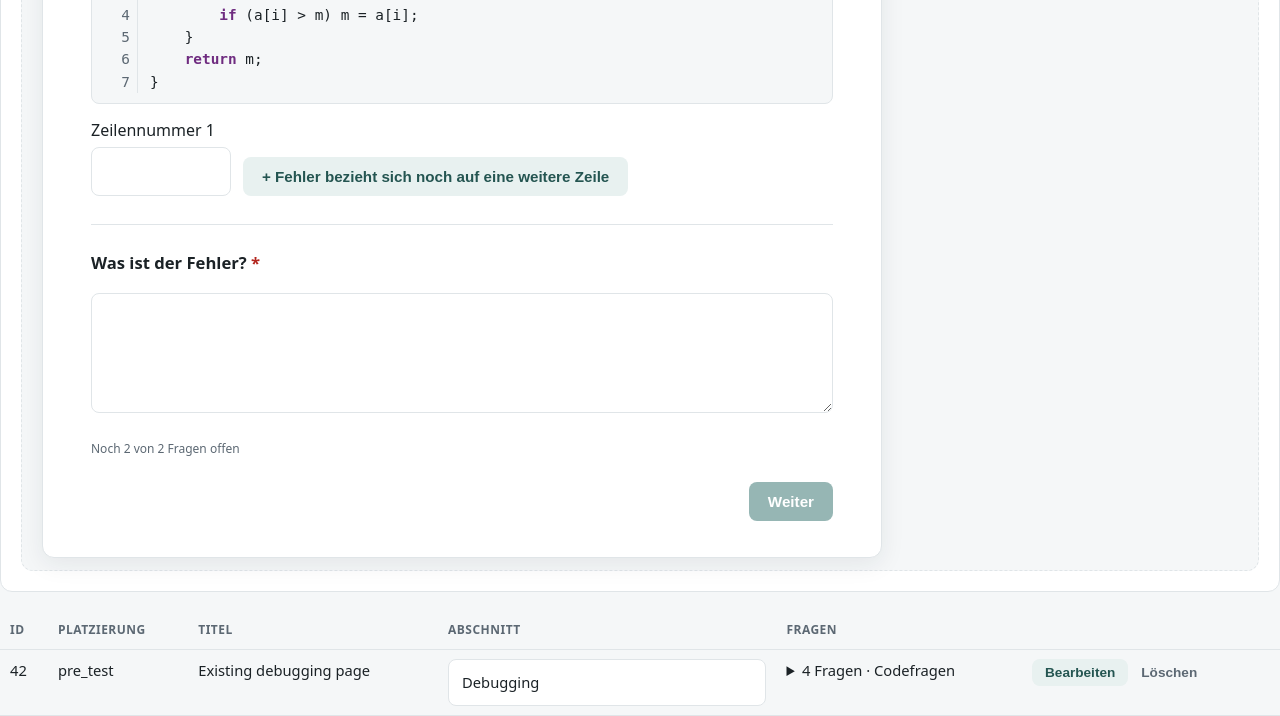
Scenario: an existing code question converts only after explicit selection and keeps every other field
(page scrolled)
Click the heading "4 Fragen · Codefragen". click: (879, 670)
box: [802,660,955,680]
(page scrolled)
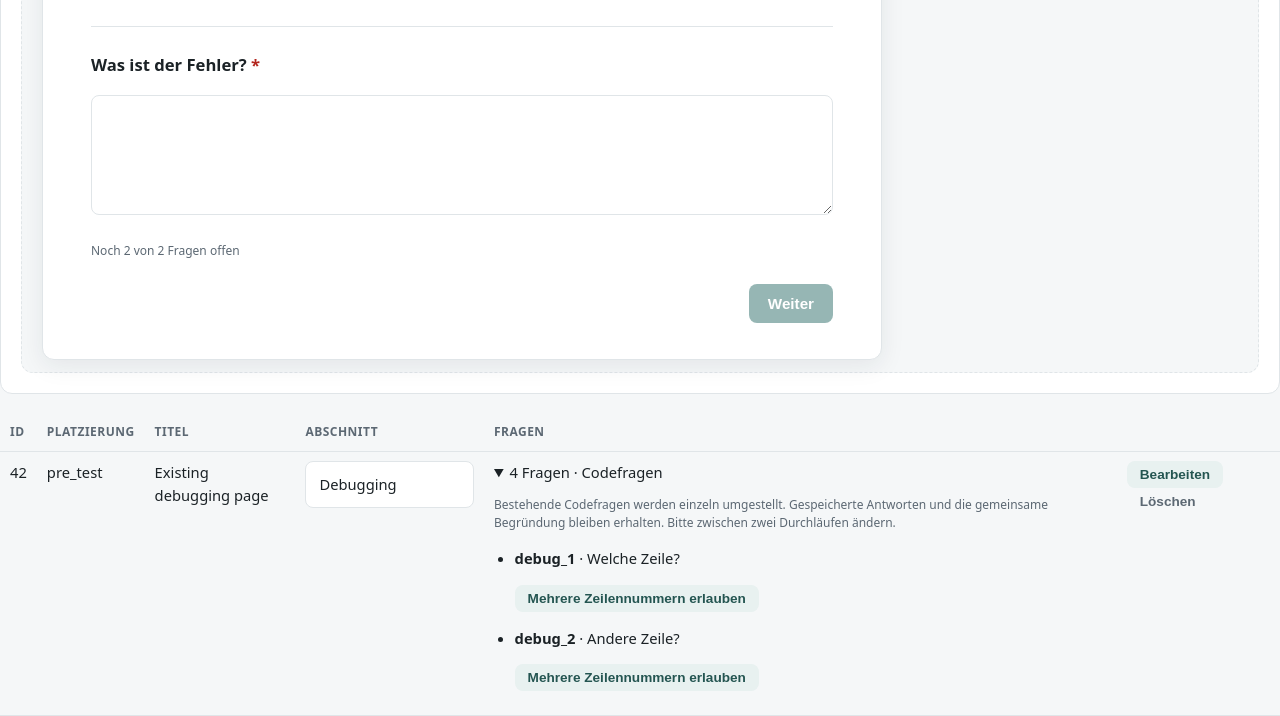
Click the button named "Mehrere Zeilennummern erlauben: debug_1". click: (637, 598)
box: [515,585,759,612]
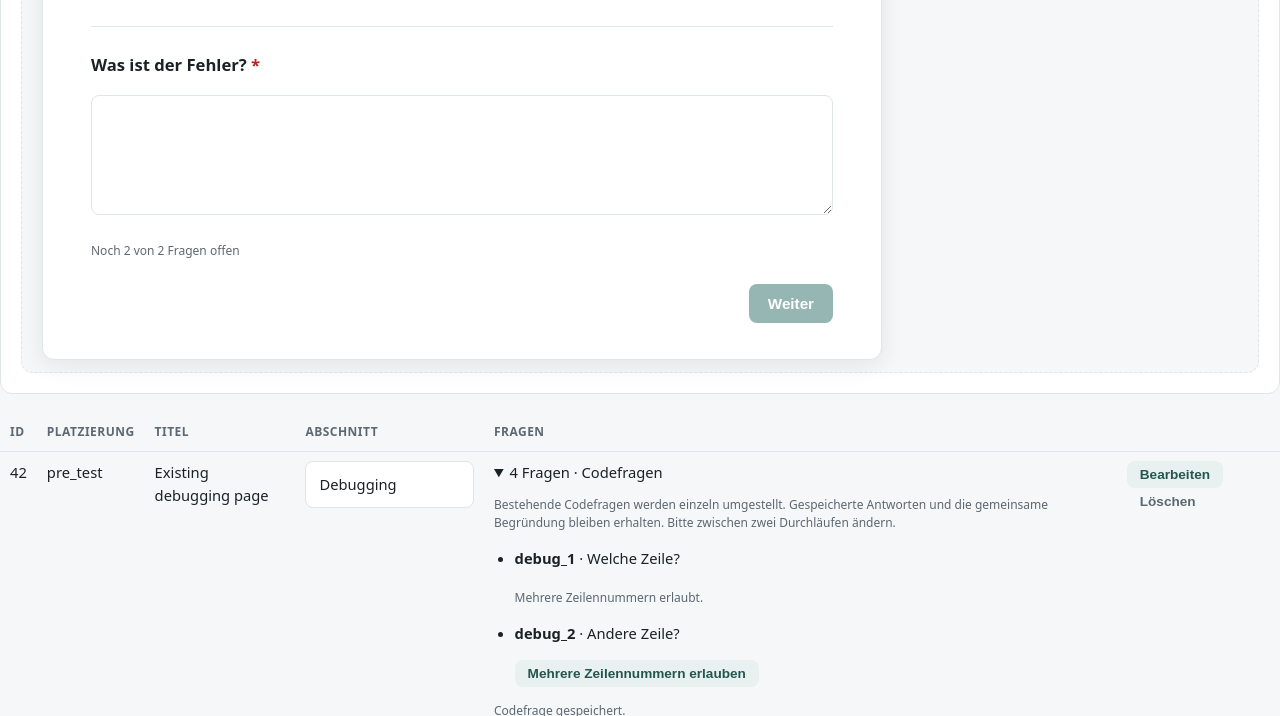
Expected: the button named ": debug_2" is shown, [515,660,759,687]
Expected: the text "Mehrere Zeilennummern erlaubt." is shown, [515,589,703,606]
